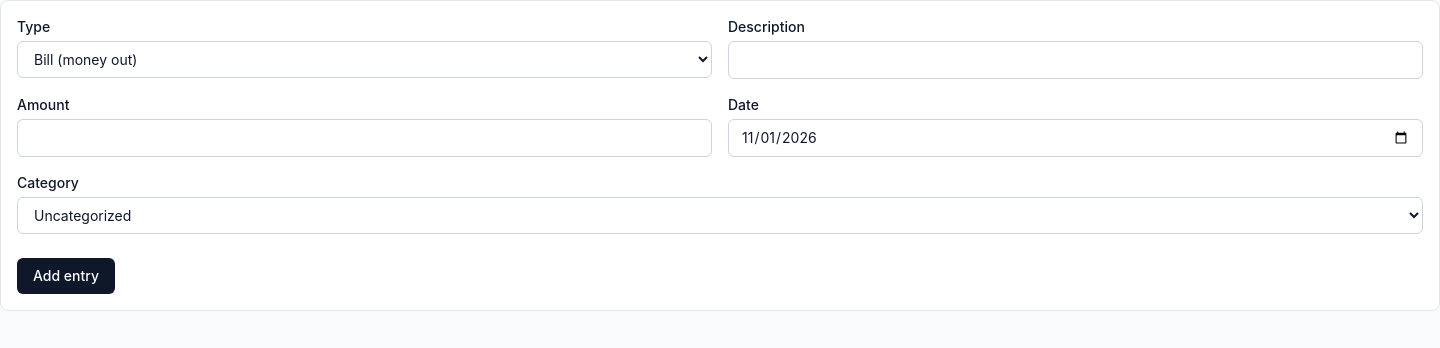
EntryForm suggestions › tells the user when there is no suggestion
Type "Vodafone recharge" into the field labelled "Description" at (1076, 60), box 728,41 -> 1423,79
Wait 400 ms
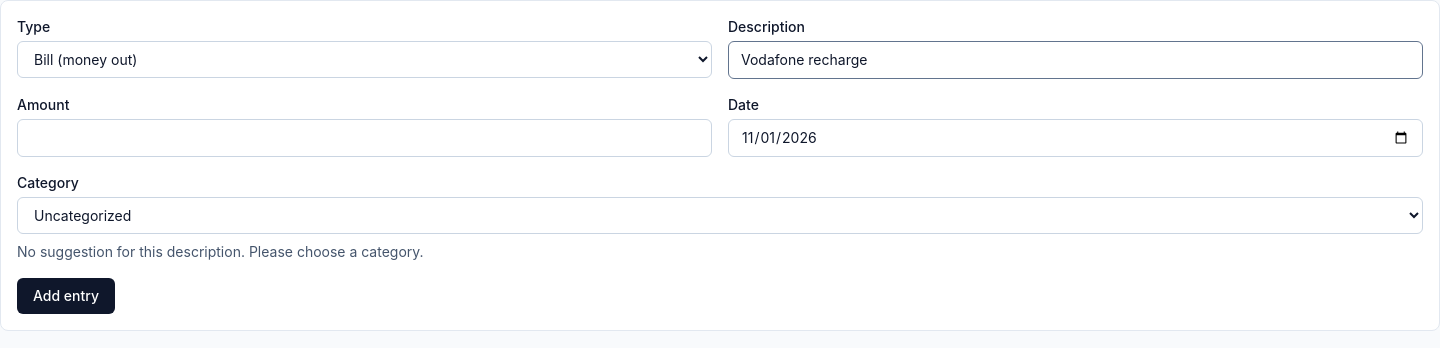
Expected: the dropdown labelled "Category" shows "Uncategorized", 17,197 -> 1423,234
Result: the text "No suggestion for this description" is shown at 17,243 -> 424,260
